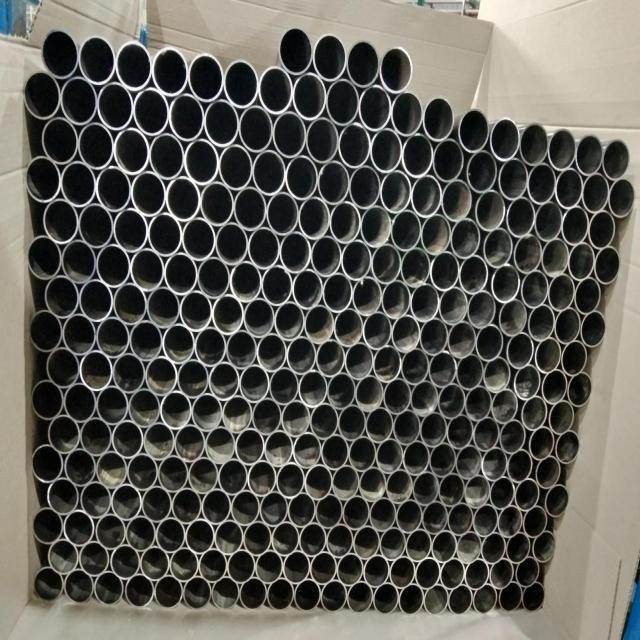pipe: (23, 69, 62, 119), (40, 29, 79, 78), (78, 35, 117, 84), (115, 40, 153, 90), (151, 46, 189, 96), (60, 75, 98, 125), (96, 80, 134, 130), (133, 86, 170, 136), (187, 52, 224, 101), (237, 104, 274, 153), (42, 115, 79, 164), (77, 121, 114, 170), (113, 126, 150, 174), (257, 65, 293, 114), (168, 92, 204, 141), (203, 98, 239, 147), (311, 33, 347, 81), (223, 59, 259, 107), (149, 132, 185, 180), (345, 38, 380, 87), (291, 71, 326, 120), (60, 160, 97, 206), (217, 143, 253, 190), (95, 165, 131, 212), (130, 170, 166, 217), (378, 45, 413, 93), (272, 110, 307, 158), (184, 137, 219, 185), (77, 202, 114, 247), (43, 197, 79, 243), (112, 207, 148, 253), (277, 27, 313, 73), (165, 175, 201, 221), (26, 156, 61, 203), (325, 77, 359, 125), (147, 211, 183, 256), (61, 238, 97, 283), (252, 149, 286, 196), (358, 83, 391, 131), (390, 89, 423, 137), (181, 216, 216, 261), (27, 235, 62, 280), (130, 247, 165, 292), (199, 181, 234, 226), (422, 94, 456, 140), (305, 116, 338, 163), (338, 121, 371, 168), (317, 159, 350, 206), (96, 243, 131, 287), (233, 186, 267, 231), (265, 191, 299, 236), (401, 132, 434, 178), (285, 154, 318, 200), (163, 252, 198, 295), (79, 278, 114, 321), (112, 281, 147, 324), (214, 221, 248, 265), (370, 127, 402, 173), (95, 315, 130, 357), (196, 256, 230, 299), (45, 275, 79, 318), (62, 312, 96, 355), (79, 348, 113, 391), (440, 179, 473, 223), (297, 195, 329, 240), (432, 137, 464, 182), (348, 164, 380, 209), (379, 169, 411, 214), (45, 347, 80, 388), (146, 286, 180, 328), (179, 289, 213, 331), (129, 319, 163, 361), (247, 226, 280, 269), (279, 230, 312, 273), (229, 260, 262, 303), (29, 310, 62, 353), (457, 108, 490, 151), (465, 149, 498, 192), (390, 208, 422, 252), (488, 116, 520, 160), (161, 323, 195, 364), (112, 352, 146, 393), (30, 379, 64, 420), (194, 325, 227, 367), (519, 120, 549, 166), (328, 201, 360, 244), (420, 213, 451, 257), (211, 293, 244, 334), (177, 357, 210, 398), (128, 386, 161, 427), (601, 136, 631, 181), (497, 158, 529, 200), (505, 195, 536, 238), (359, 204, 390, 247), (310, 234, 341, 277), (340, 238, 371, 281), (410, 174, 441, 217), (145, 355, 178, 395), (63, 382, 96, 422), (96, 384, 129, 424), (80, 416, 113, 456), (474, 190, 506, 231), (399, 246, 431, 287), (261, 265, 293, 306), (243, 297, 275, 338), (450, 217, 481, 259), (370, 242, 401, 284), (30, 445, 64, 483), (63, 447, 97, 485), (527, 161, 557, 204), (111, 419, 144, 458), (160, 389, 192, 429), (191, 392, 223, 432), (174, 422, 206, 462), (548, 127, 577, 171), (575, 132, 604, 176), (482, 227, 513, 268), (429, 250, 460, 291), (458, 254, 489, 295), (292, 268, 323, 309), (274, 300, 305, 341), (226, 329, 257, 370), (47, 414, 80, 452), (79, 480, 112, 518), (31, 507, 64, 545), (143, 421, 175, 460), (126, 452, 158, 491), (351, 276, 382, 316), (303, 304, 334, 344), (256, 332, 287, 372), (209, 360, 240, 400), (205, 424, 236, 464), (96, 449, 127, 489), (533, 200, 563, 241), (512, 233, 542, 274), (322, 272, 352, 313), (380, 279, 410, 320), (409, 282, 439, 323), (47, 477, 80, 514), (63, 509, 96, 546), (555, 167, 584, 209), (608, 176, 637, 218), (490, 264, 521, 303), (466, 290, 497, 329), (239, 363, 270, 402), (251, 396, 282, 435), (158, 454, 189, 493), (582, 171, 610, 214), (333, 307, 363, 347), (390, 314, 420, 354), (286, 335, 316, 375), (222, 394, 252, 434), (264, 428, 294, 468), (94, 512, 126, 549), (78, 540, 110, 577), (33, 566, 65, 603), (497, 298, 528, 336), (111, 482, 142, 520), (141, 484, 172, 522), (438, 286, 468, 325), (315, 338, 345, 377), (344, 341, 374, 380), (269, 366, 299, 405), (298, 369, 328, 408), (188, 455, 218, 494), (541, 237, 570, 277), (520, 269, 549, 309), (126, 515, 157, 552), (48, 537, 79, 574), (474, 323, 504, 361), (505, 331, 535, 369), (309, 401, 339, 439), (235, 427, 265, 465), (218, 457, 248, 495), (362, 311, 391, 350), (419, 317, 448, 356), (327, 371, 356, 410), (282, 398, 311, 437), (293, 431, 322, 470), (561, 205, 589, 245), (587, 209, 615, 249), (593, 245, 621, 285), (547, 272, 575, 312), (276, 461, 306, 498), (172, 487, 202, 524), (201, 488, 231, 525), (230, 489, 260, 526), (156, 516, 186, 553), (185, 517, 215, 554), (243, 519, 273, 556), (64, 568, 94, 605), (94, 570, 124, 607), (400, 347, 429, 385), (248, 459, 277, 497), (527, 303, 555, 342), (447, 320, 475, 359), (428, 349, 456, 388), (110, 544, 141, 579), (568, 241, 595, 281), (124, 572, 154, 608), (321, 433, 350, 470), (259, 490, 288, 527), (215, 518, 244, 555), (155, 573, 184, 610), (373, 344, 401, 382), (456, 353, 484, 391), (483, 356, 511, 394), (383, 377, 411, 415), (490, 387, 518, 425), (369, 495, 397, 533), (574, 276, 601, 315), (554, 306, 581, 345), (140, 545, 170, 580), (304, 463, 333, 499), (287, 492, 316, 528), (183, 574, 212, 610), (534, 337, 562, 374), (513, 364, 541, 401), (355, 374, 383, 411), (410, 379, 438, 416), (437, 382, 465, 419), (464, 385, 492, 422), (338, 404, 366, 441), (365, 406, 393, 443), (393, 409, 421, 446), (419, 411, 447, 448), (446, 413, 474, 450), (348, 435, 376, 472), (342, 494, 370, 531), (170, 546, 199, 581), (199, 547, 228, 582), (227, 548, 256, 583), (255, 549, 284, 584), (580, 309, 606, 348), (520, 395, 548, 431), (499, 419, 527, 455), (527, 425, 555, 461), (402, 439, 430, 475), (331, 464, 359, 500), (358, 465, 386, 501), (315, 493, 343, 529), (212, 575, 240, 611), (561, 340, 588, 377), (541, 368, 568, 405), (473, 416, 500, 453), (429, 441, 456, 478), (455, 444, 482, 481), (412, 469, 439, 506), (396, 497, 423, 534), (271, 521, 299, 556), (299, 522, 327, 557), (326, 523, 354, 558), (283, 549, 311, 584), (239, 576, 267, 611), (548, 399, 575, 435), (376, 437, 403, 473), (481, 446, 508, 482), (386, 468, 413, 504), (438, 471, 465, 507), (422, 500, 449, 536), (406, 528, 433, 564), (567, 371, 593, 408), (507, 448, 534, 483), (544, 483, 571, 518), (353, 525, 380, 560), (379, 526, 406, 561), (310, 550, 337, 585), (337, 552, 364, 587), (363, 553, 390, 588), (389, 554, 416, 589), (267, 577, 294, 612), (294, 577, 321, 612), (321, 578, 348, 613), (464, 473, 490, 509), (447, 501, 473, 537), (535, 455, 562, 489), (514, 478, 541, 512), (555, 429, 581, 464), (489, 476, 515, 511), (472, 503, 498, 538), (431, 528, 457, 563), (415, 556, 441, 591), (347, 579, 373, 614), (373, 581, 399, 616), (497, 504, 523, 538), (398, 582, 424, 616), (456, 529, 481, 564), (522, 506, 549, 538), (440, 557, 465, 591), (506, 531, 532, 563), (514, 556, 540, 588), (472, 583, 498, 615), (532, 530, 557, 563), (481, 531, 506, 564), (465, 557, 490, 590), (424, 583, 449, 616), (448, 583, 473, 616), (490, 557, 515, 589), (498, 581, 523, 613), (522, 581, 546, 613)
